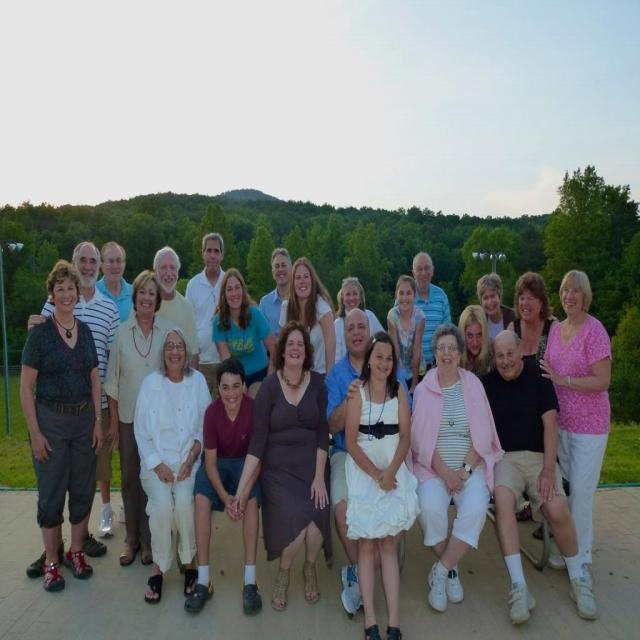nomask: (369, 343, 392, 380), (346, 315, 368, 353), (494, 342, 518, 376), (163, 334, 186, 369), (220, 374, 242, 408), (54, 278, 77, 310), (77, 249, 97, 283), (136, 281, 156, 314), (438, 337, 458, 370), (104, 248, 124, 280), (519, 288, 539, 320), (562, 280, 582, 312), (157, 258, 177, 289), (285, 333, 304, 364), (294, 266, 311, 296), (225, 279, 242, 308), (204, 241, 221, 269), (272, 258, 290, 284), (466, 324, 482, 353), (414, 258, 431, 285), (482, 289, 500, 314), (397, 284, 413, 308), (343, 286, 359, 309)
